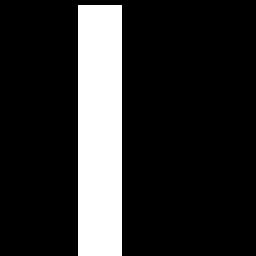person: (78, 5, 121, 256)
